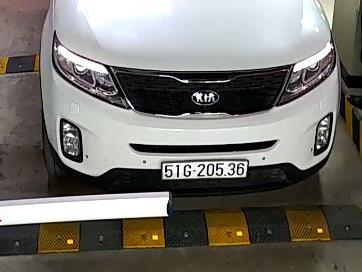number: (162, 158, 249, 181)
